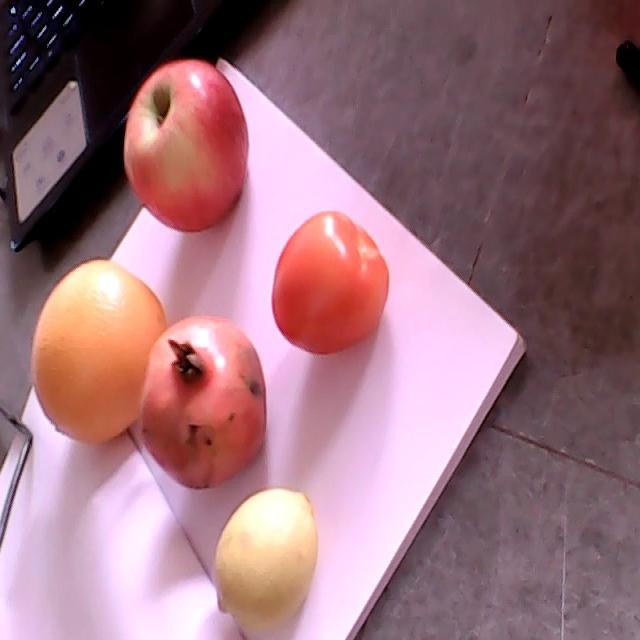apple: (124, 59, 249, 233)
lemon: (213, 488, 318, 627)
orange: (29, 259, 168, 445)
pomegranate: (141, 316, 267, 491)
tomato: (272, 210, 390, 358)
